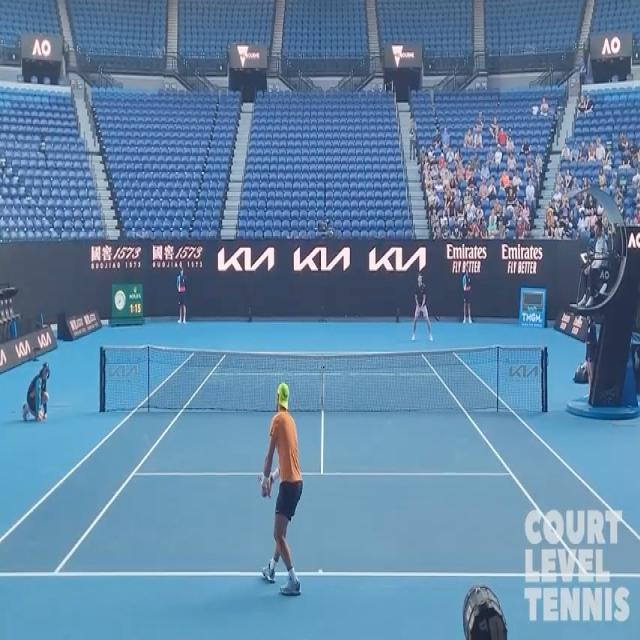serve_ready: (250, 377, 300, 600)
